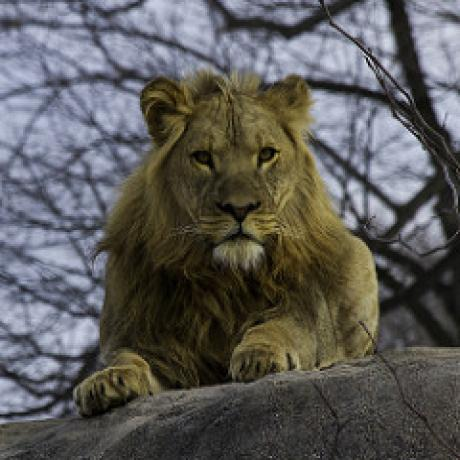Lion: (78, 68, 382, 422)
